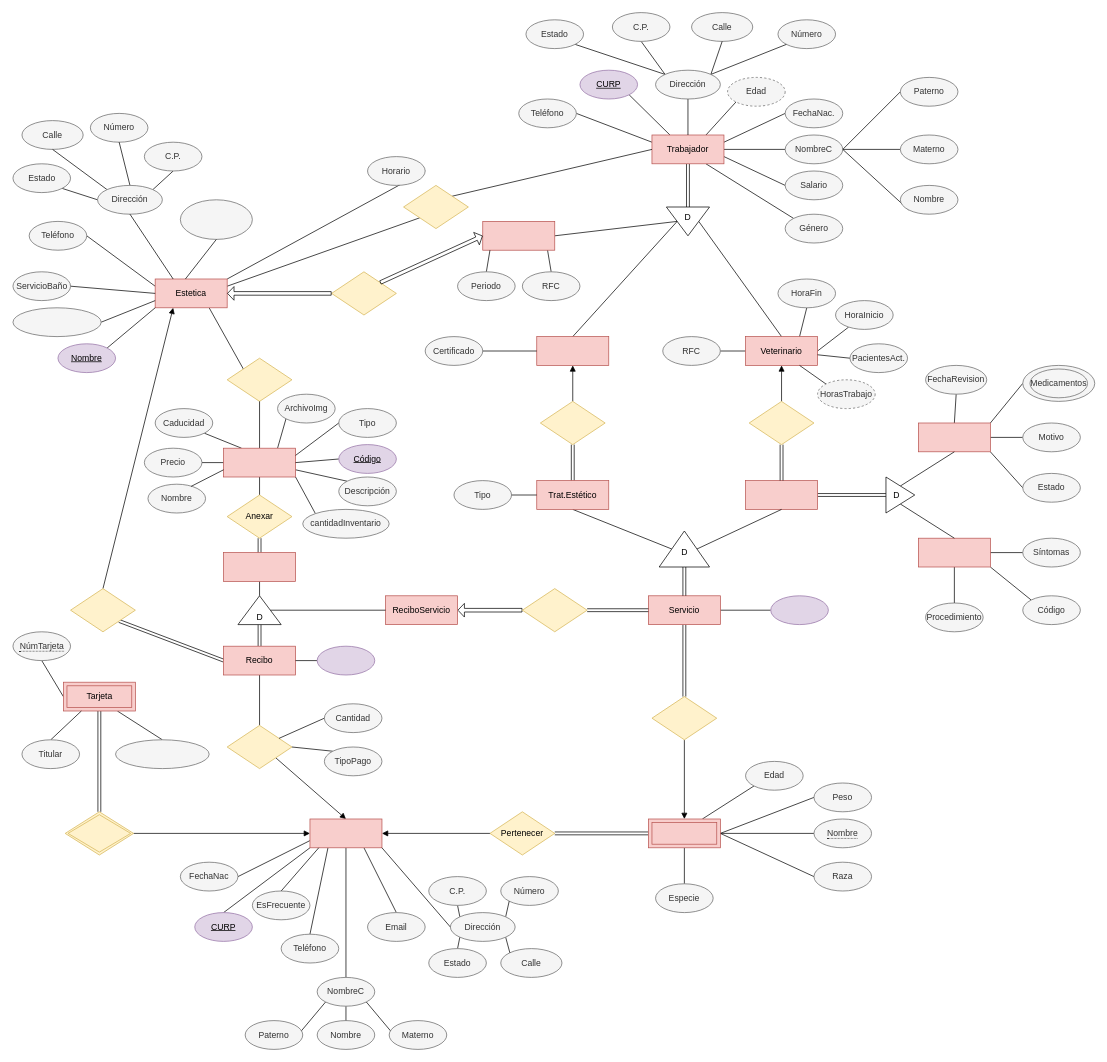
This 1107x1062 diagram has some shape labels left out. The centre of each missing label's shape, as x and y in pixels:
Asociar: point (99, 833)
Atender: point (781, 423)
Consulta: point (781, 494)
Dueño: point (345, 833)
Emergencia: point (954, 552)
Estilista: point (572, 350)
FechaVencimiento: point (162, 754)
IdServicio: point (799, 610)
Listar: point (554, 610)
Mascota: point (684, 833)
Normal: point (954, 437)
NumConsultorios: point (216, 219)
NumRecibo: point (345, 660)
Pagar: point (259, 747)
Procurar: point (572, 423)
Producto: point (259, 462)
Realizar: point (684, 718)
ReciboProducto: point (259, 566)
Registrar: point (102, 610)
ServicioObservacion: point (56, 322)
Supervisar: point (363, 293)
Supervisor: point (518, 235)
Trabajar: point (435, 207)
Vender: point (259, 379)
